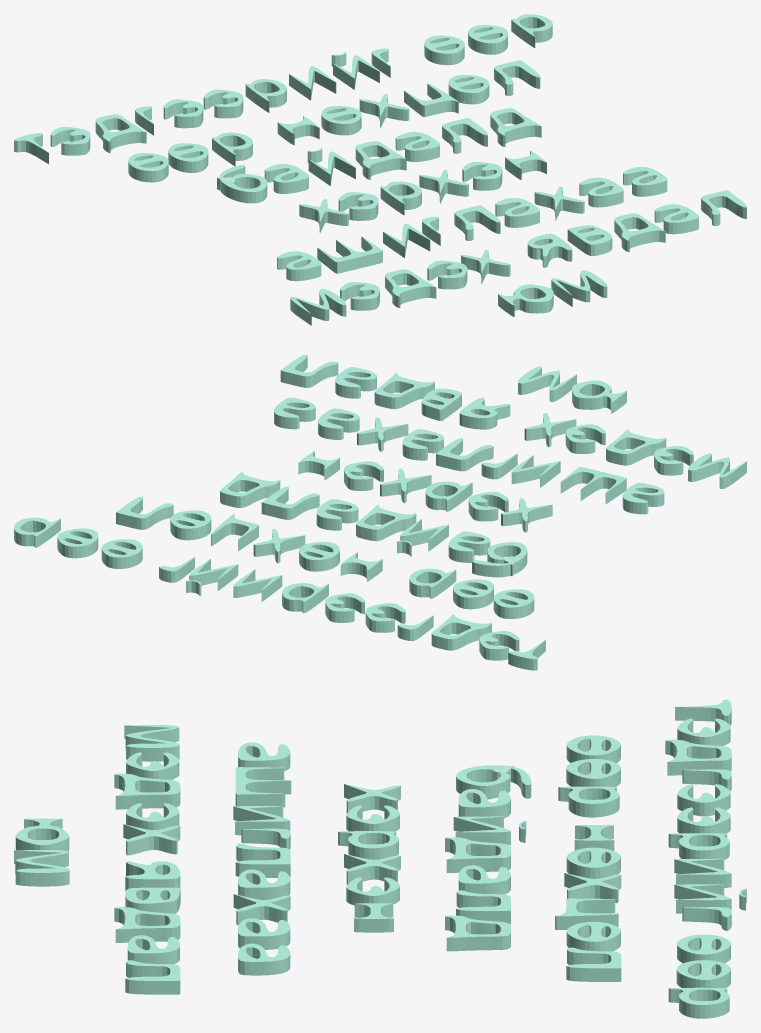
The picture shows the model from 3 angles, top to bottom: view 1: azimuth 30°, elevation 25°; view 2: azimuth 150°, elevation 25°; view 3: azimuth 270°, elevation 25°; orthographic projection. The views are drawn at different scales.
Parts seen in each view (by area): view 1: imagetostl_mesh; view 2: imagetostl_mesh; view 3: imagetostl_mesh.
Boxes of the visible parts, bbox=[...] form: imagetostl_mesh: bbox=[14, 14, 746, 325]; imagetostl_mesh: bbox=[14, 354, 746, 670]; imagetostl_mesh: bbox=[14, 699, 746, 1018].
Bounding box in the file's own units: 96.26 × 2 × 97.51.
